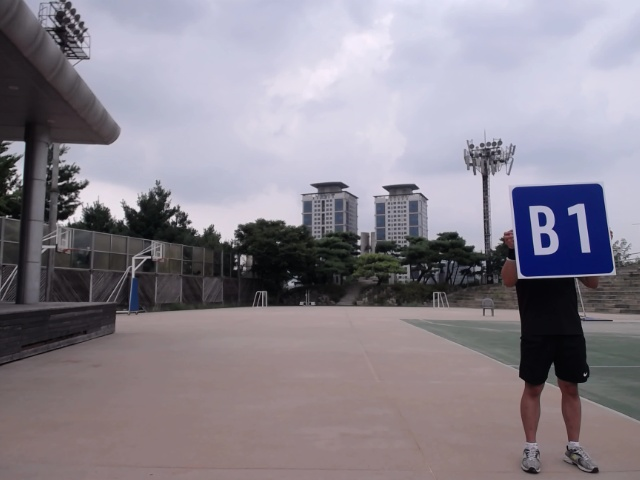delivery_b1: (510, 183, 616, 278)
